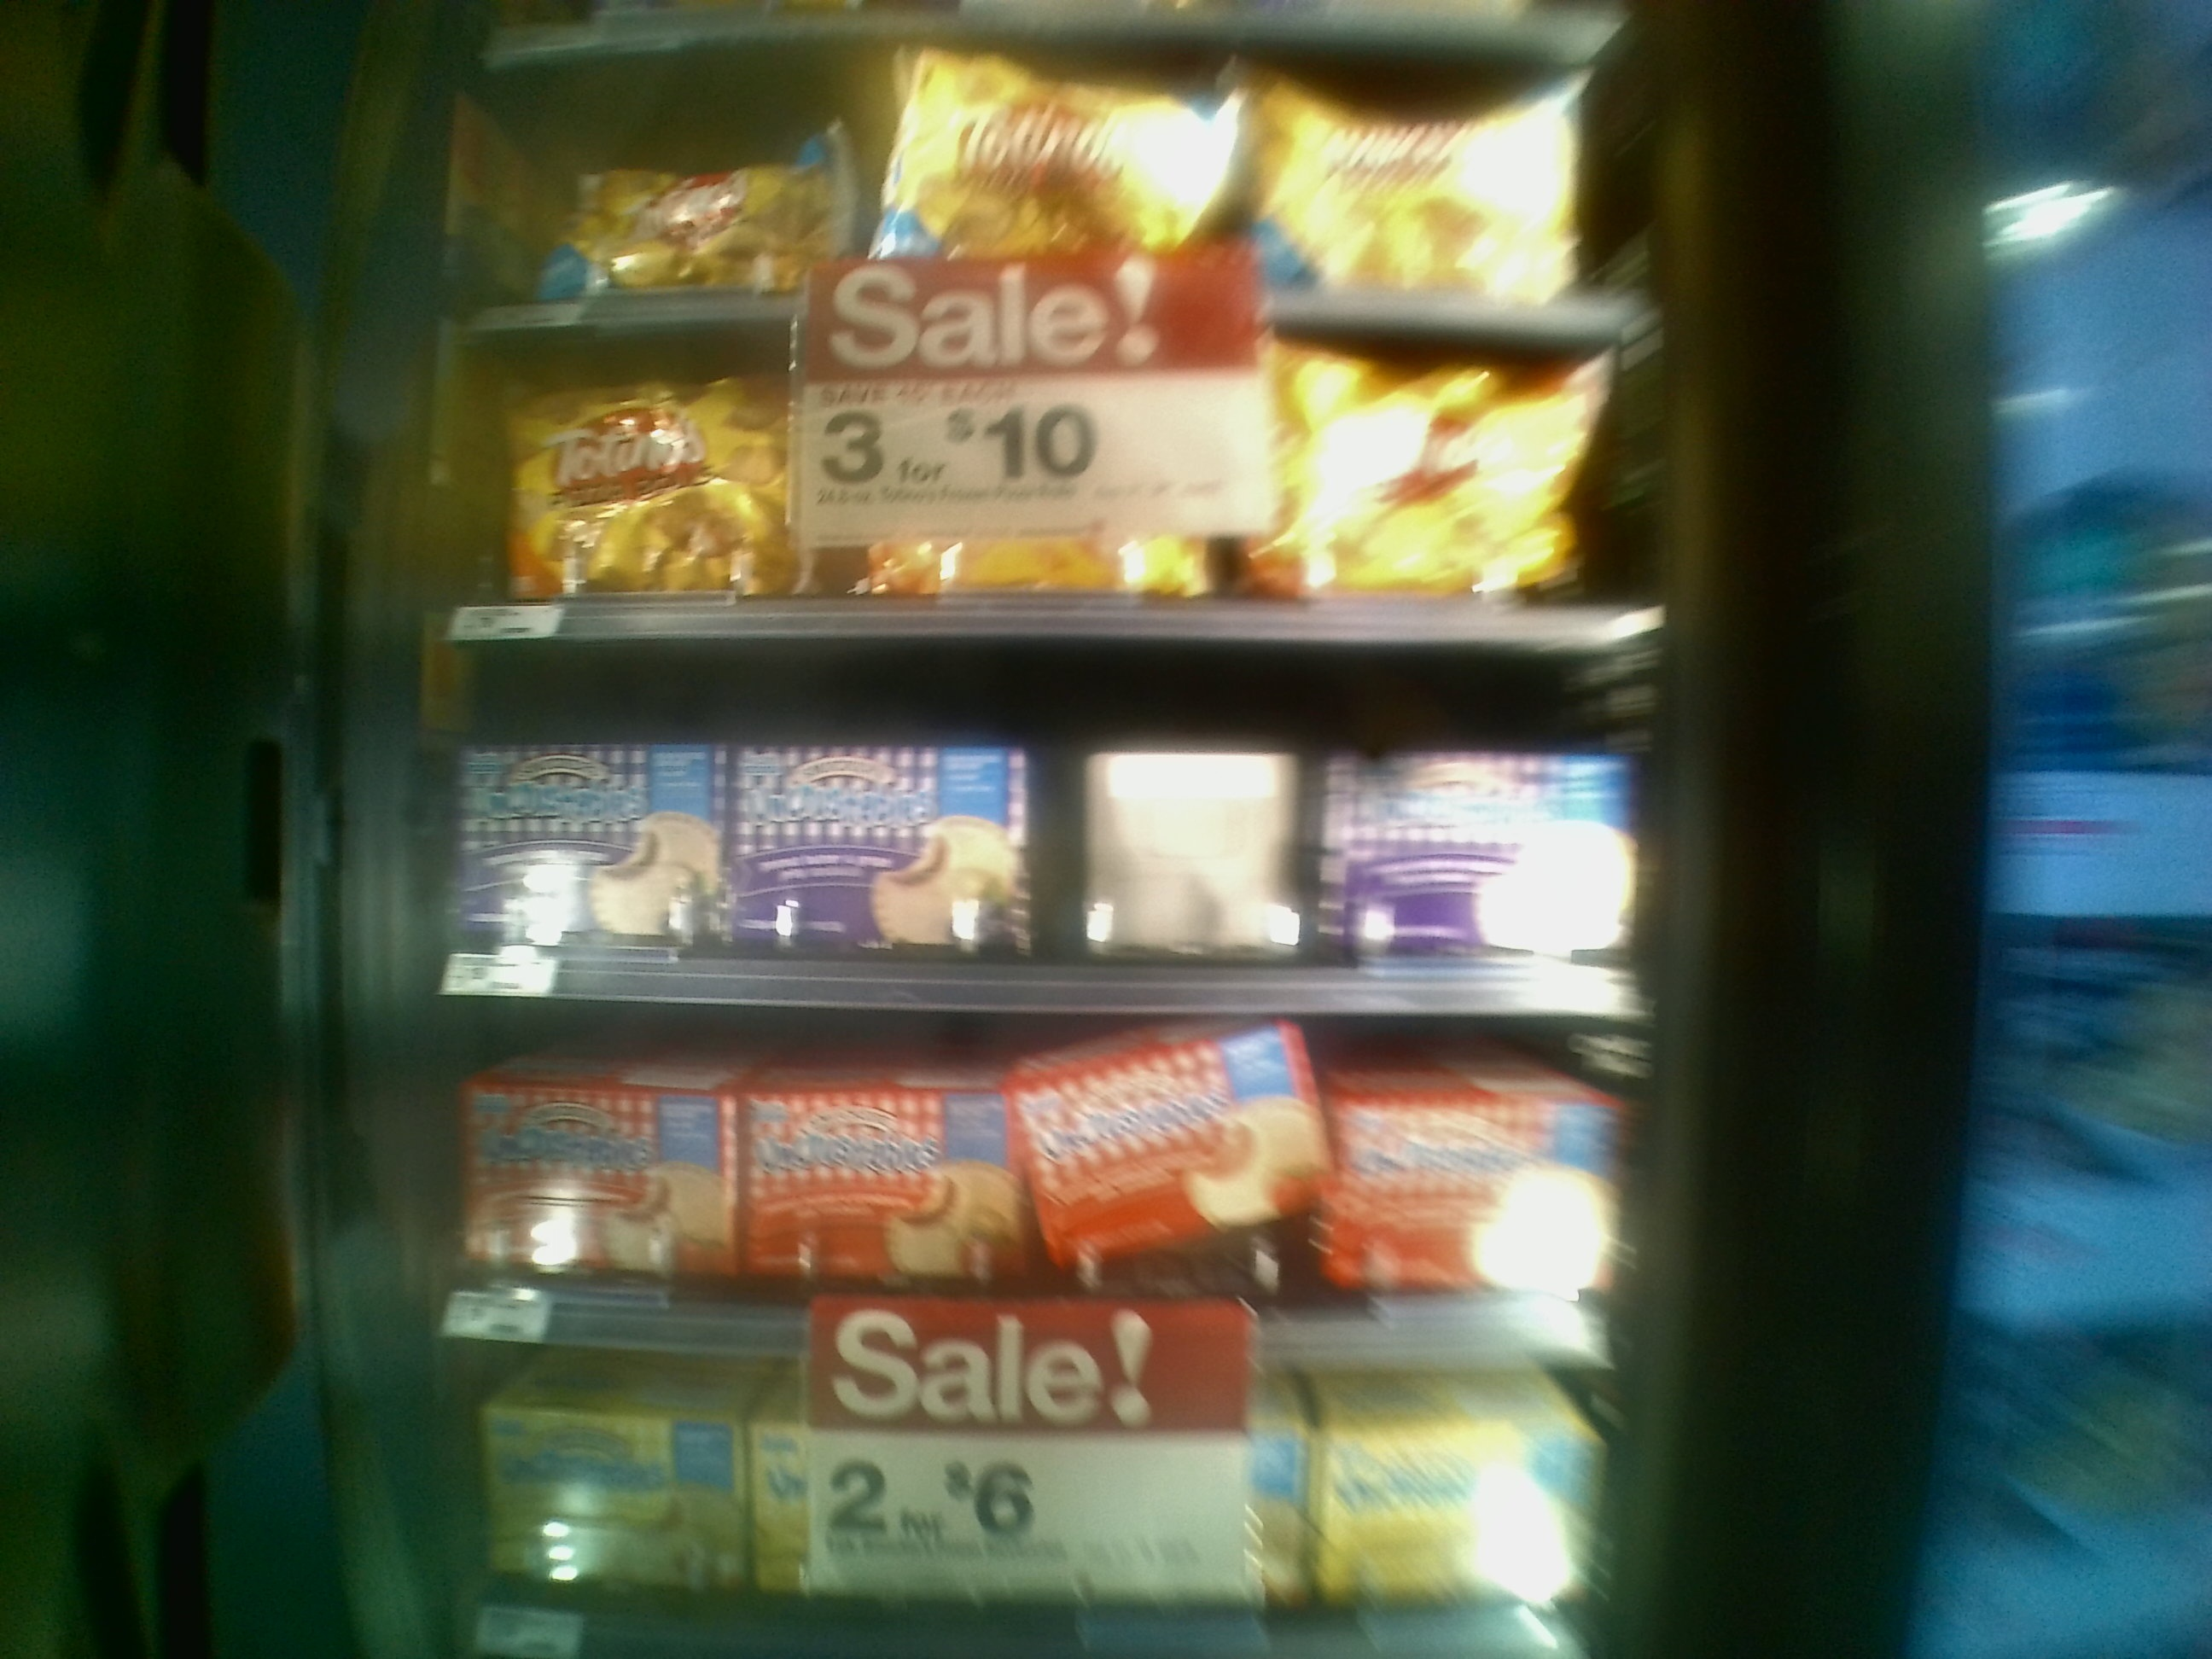shelf: (427, 636, 1639, 1021), (404, 995, 1609, 1368), (441, 303, 1630, 662)
